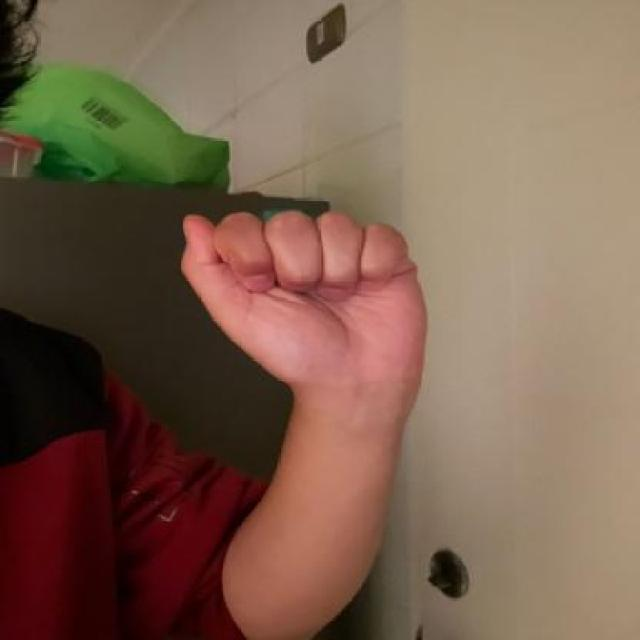A: (166, 204, 443, 390)
